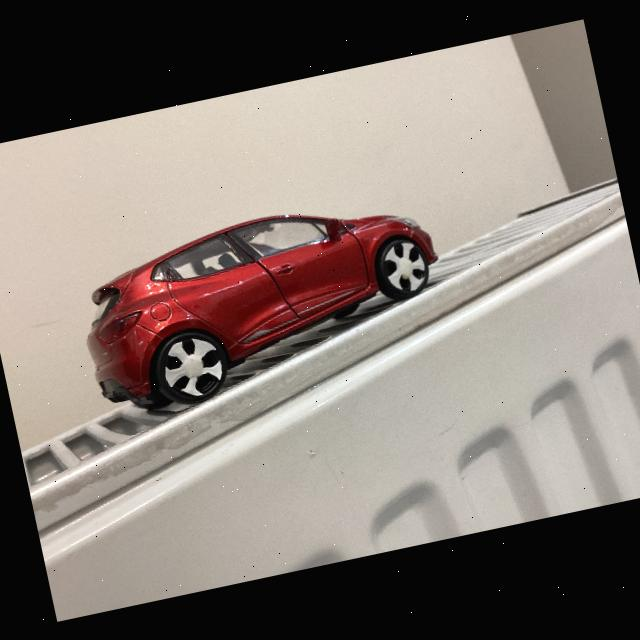Yanlis_Jant: (158, 331, 228, 402), (378, 238, 430, 297)
